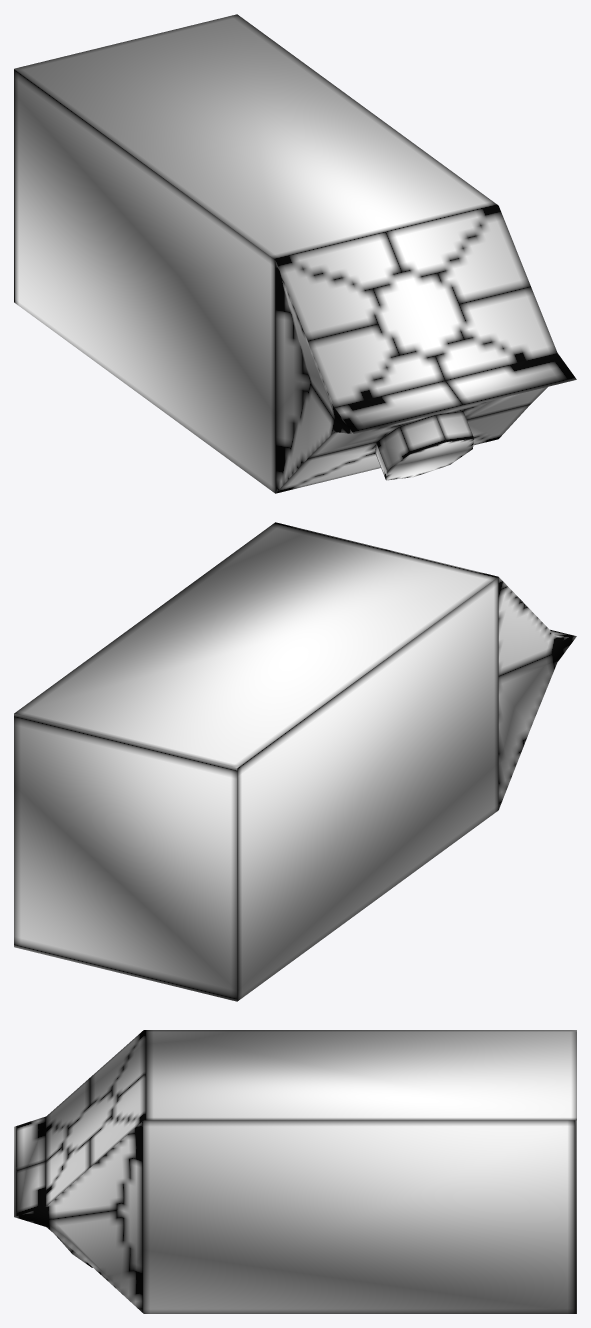
File: MilkCarton.obj
3 renders of one model, top to bottom at view 1: azimuth 30°, elevation 25°; view 2: azimuth 150°, elevation 25°; view 3: azimuth 270°, elevation 25°, orthographic. The views are drawn at different scales.
Visible parts, largest first — view 1: Cube1; view 2: Cube1; view 3: Cube1.
Boxes of the visible parts, bbox=[...] form: Cube1: bbox=[14, 14, 576, 493]; Cube1: bbox=[14, 522, 576, 1001]; Cube1: bbox=[14, 1030, 576, 1313].
Size of the model in its own units: 0.812 by 0.812 by 2.14.
1 material, 1 textured.
